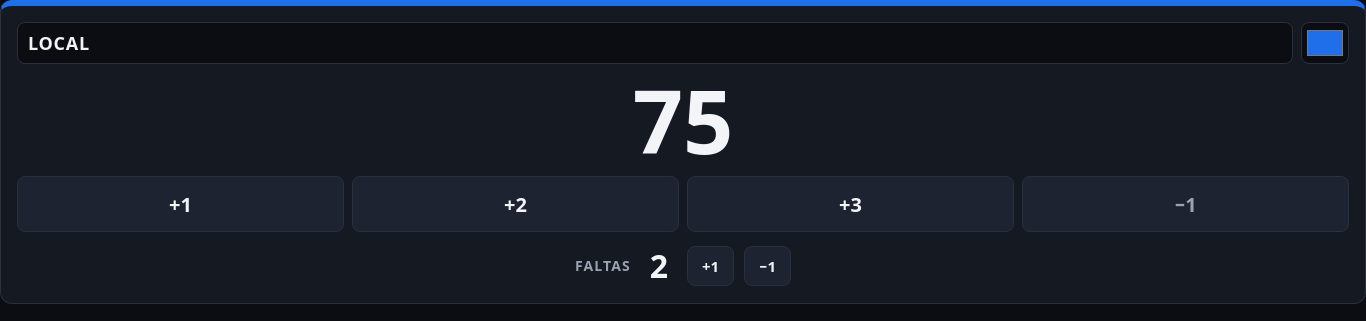
Test: TeamPanel › keeps what is typed (spaces, an empty field) until the field loses focus
Replace the text in the field named "Nombre LOCAL" with "LOS " at (655, 43), box [17, 22, 1293, 64]
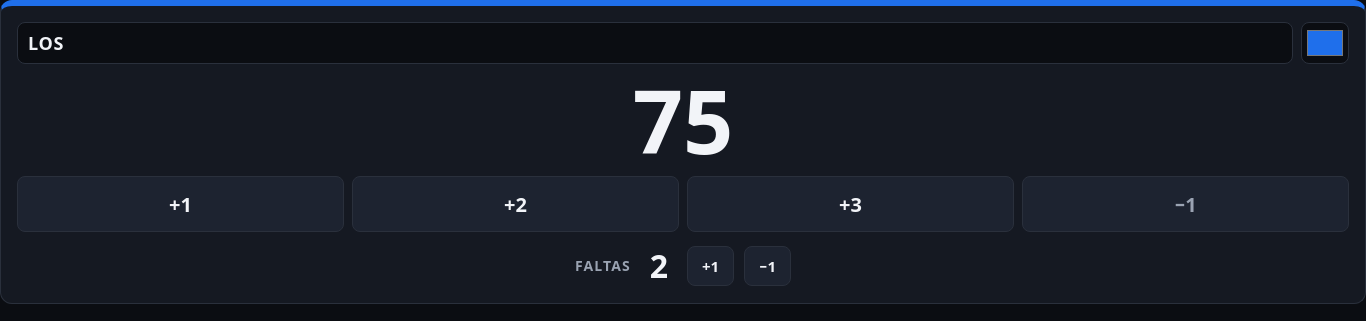
Clear the field named "Nombre LOCAL" at (655, 43), box [17, 22, 1293, 64]
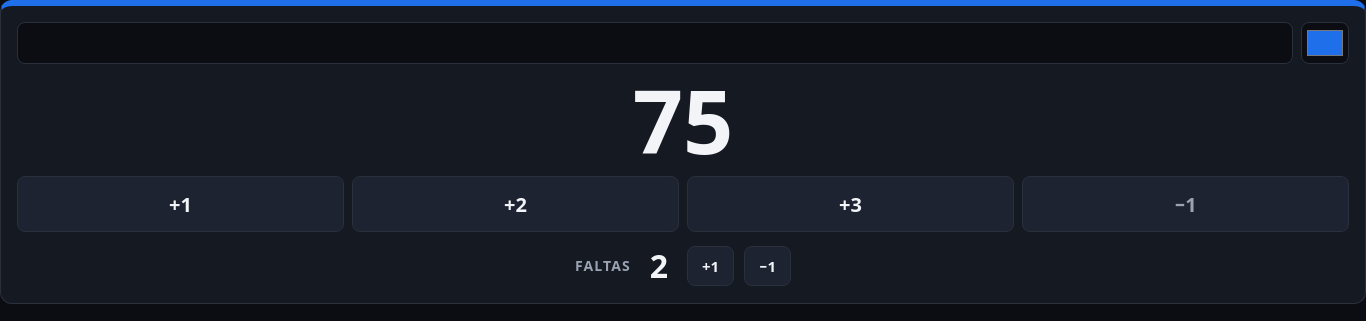
Leave the field named "Nombre LOCAL", box [17, 22, 1293, 64]
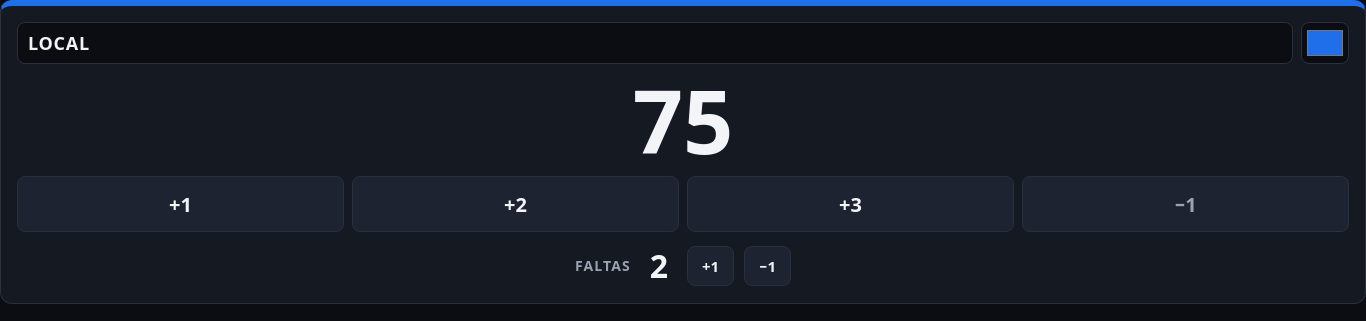
Expected: the field named "Nombre LOCAL" holds "LOCAL", [17, 22, 1293, 64]
